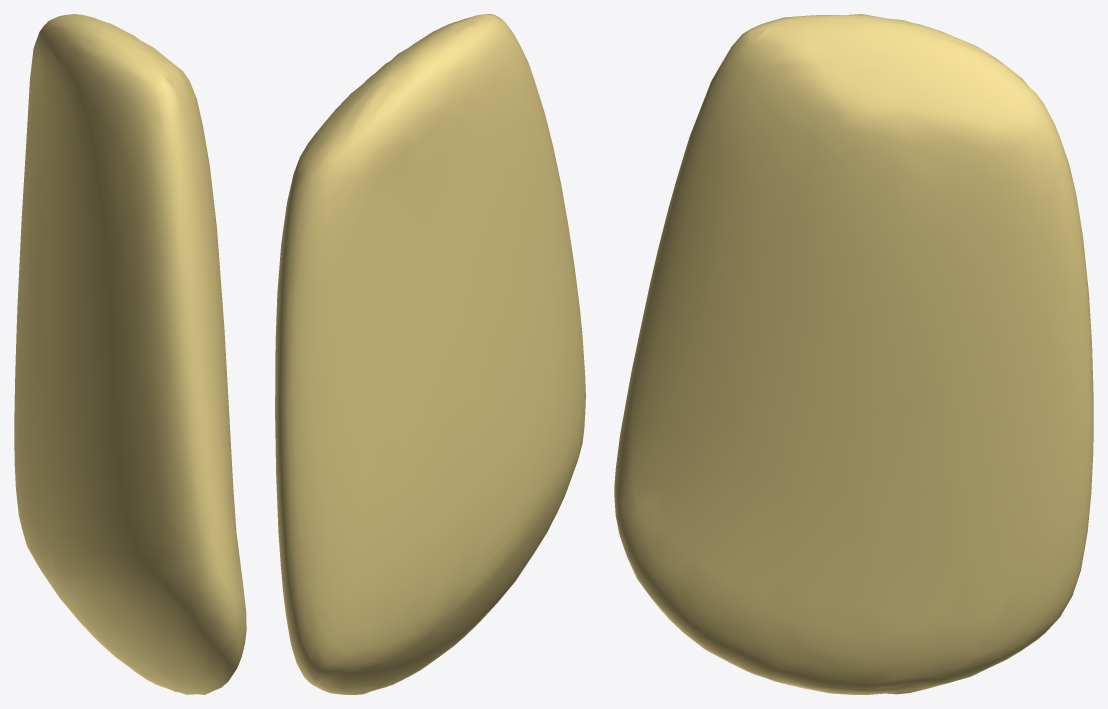
Rendered from fma73340_fj7497.glb.
3 renders of one model, left to right at view 1: azimuth 30°, elevation 25°; view 2: azimuth 150°, elevation 25°; view 3: azimuth 270°, elevation 25°, orthographic. The views are drawn at different scales.
Visible parts, largest first — view 1: FMA73340_FJ7497; view 2: FMA73340_FJ7497; view 3: FMA73340_FJ7497.
Part boxes in pixels (x1,y1,x2,y2): FMA73340_FJ7497: [14, 14, 246, 694]; FMA73340_FJ7497: [275, 14, 585, 694]; FMA73340_FJ7497: [614, 14, 1093, 694].
Size of the model in its own units: 0.00112 by 0.00477 by 0.00317.
